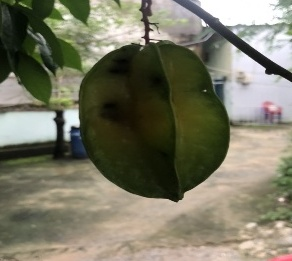Khe: (77, 39, 233, 204)
